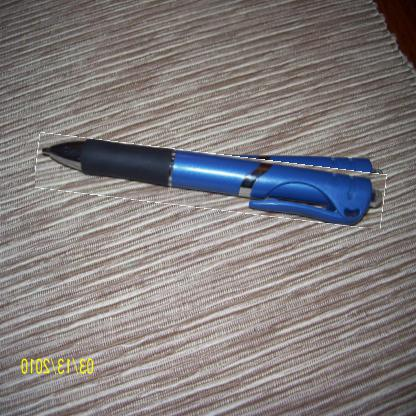Pen: (35, 143, 386, 218)
